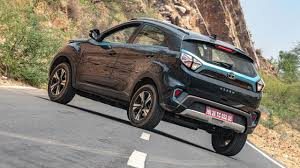Tata Nexon: (47, 18, 265, 157)
